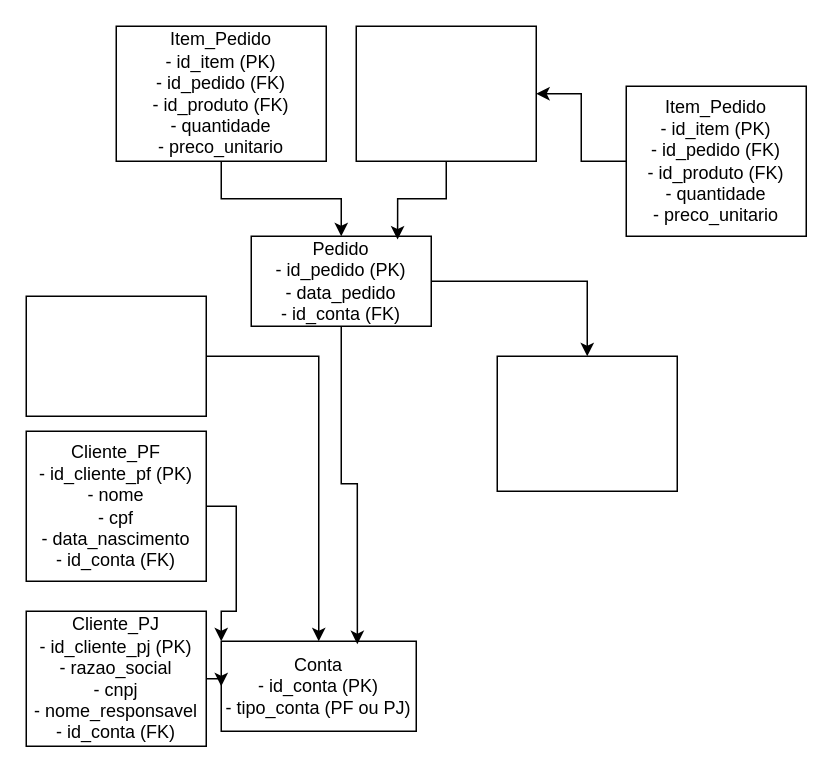
The diagram is 833 pixels wide and 773 high, and some of its shapes have lost their labels. Each missing label, with the box of its shape:
Entrega - id_entrega (PK) - id_pedido (FK) - status - codigo_rastreio: (496, 355, 677, 491)
Pagamento - id_pagamento (PK) - id_conta (FK) - tipo_pagamento - detalhes: (25, 295, 206, 416)
Produto - id_produto (PK) - nome - descricao - preco - estoque: (355, 25, 536, 161)
